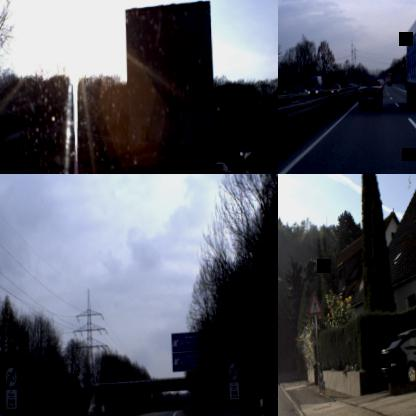PEDESTRIAN CROSSING: (306, 289, 323, 316)
restriction ends: (4, 365, 18, 388), (228, 361, 238, 381)
